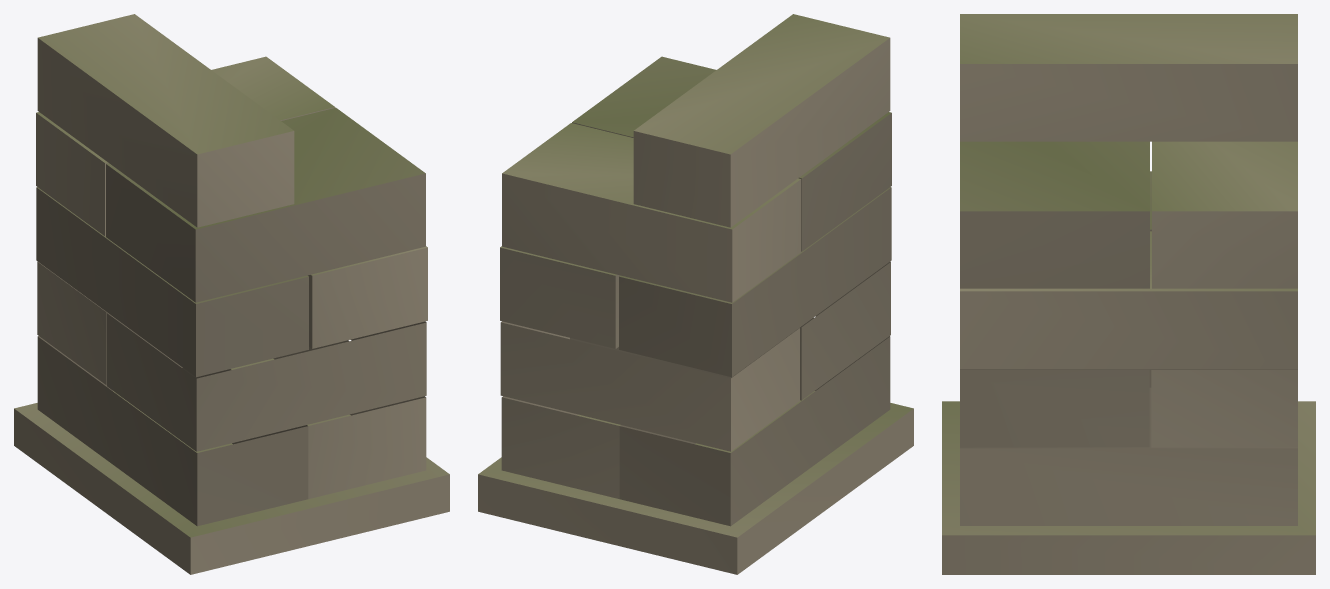
Rendered from viaduct_top_stump_mid.glb.
The picture shows the model from 3 angles, left to right: view 1: azimuth 30°, elevation 25°; view 2: azimuth 150°, elevation 25°; view 3: azimuth 270°, elevation 25°; orthographic projection. The views are drawn at different scales.
Visible parts, largest first — view 1: viaduct_top_stump_mid; view 2: viaduct_top_stump_mid; view 3: viaduct_top_stump_mid.
Boxes of the visible parts, bbox=[...] form: viaduct_top_stump_mid: bbox=[14, 14, 449, 574]; viaduct_top_stump_mid: bbox=[478, 14, 913, 574]; viaduct_top_stump_mid: bbox=[942, 14, 1315, 574].
Size of the model in its own units: 5.6 by 8.47 by 6.6.
